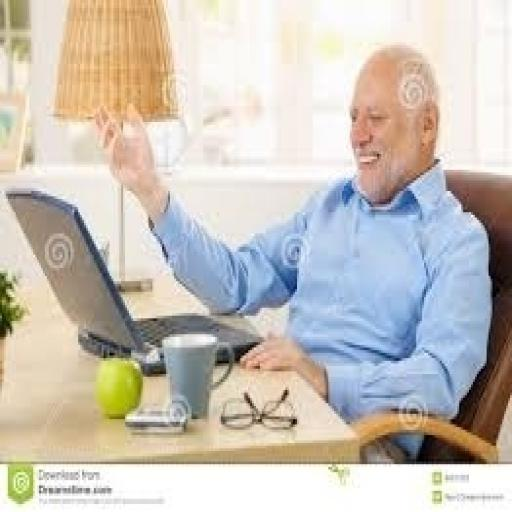using_laptop: (2, 183, 264, 374)
